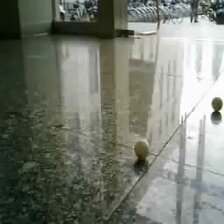w: (133, 139, 152, 160), (210, 96, 224, 111)
